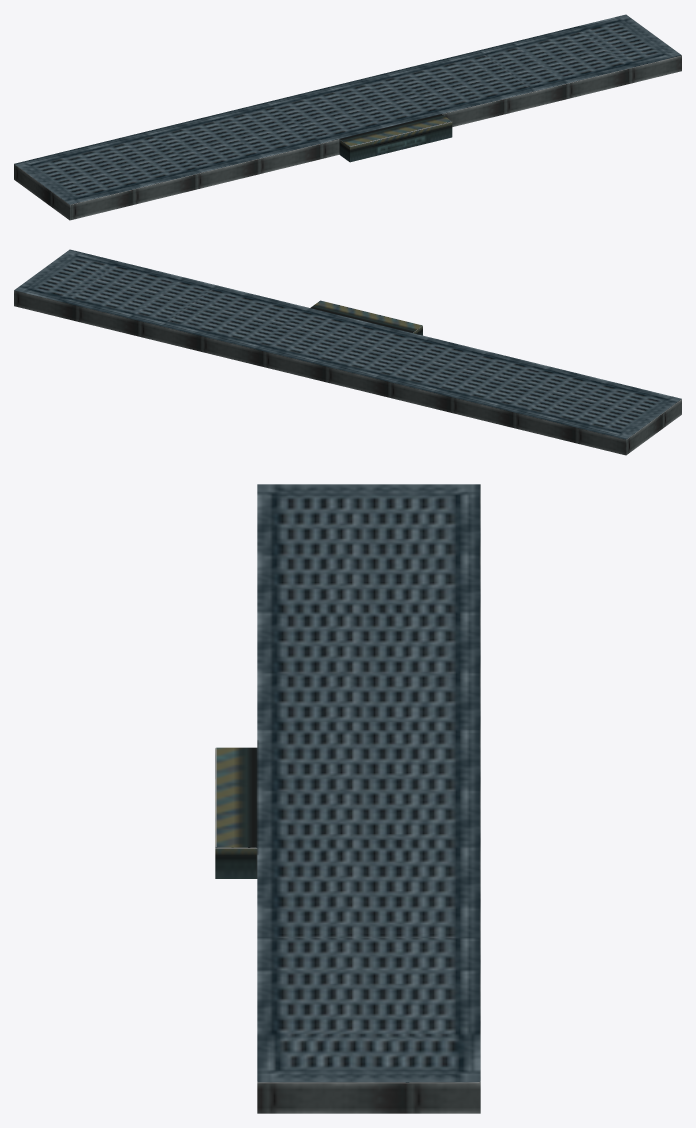
File: SecondFloorTwo.obj
3 renders of one model, top to bottom at view 1: azimuth 30°, elevation 25°; view 2: azimuth 150°, elevation 25°; view 3: azimuth 270°, elevation 25°, orthographic. The views are drawn at different scales.
Parts seen in each view (by area): view 1: Second_Floor_Ledge; view 2: Second_Floor_Ledge; view 3: Second_Floor_Ledge.
Part boxes in pixels (box(x1,y1,x2,y2)): Second_Floor_Ledge: box(14, 14, 681, 220); Second_Floor_Ledge: box(14, 249, 681, 455); Second_Floor_Ledge: box(215, 484, 480, 1113).
Size of the model in its own units: 92.84 by 2.3 by 17.42.
